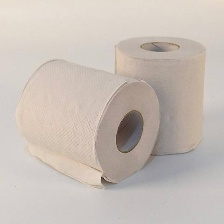tissue: (10, 54, 164, 193), (109, 30, 211, 160)
